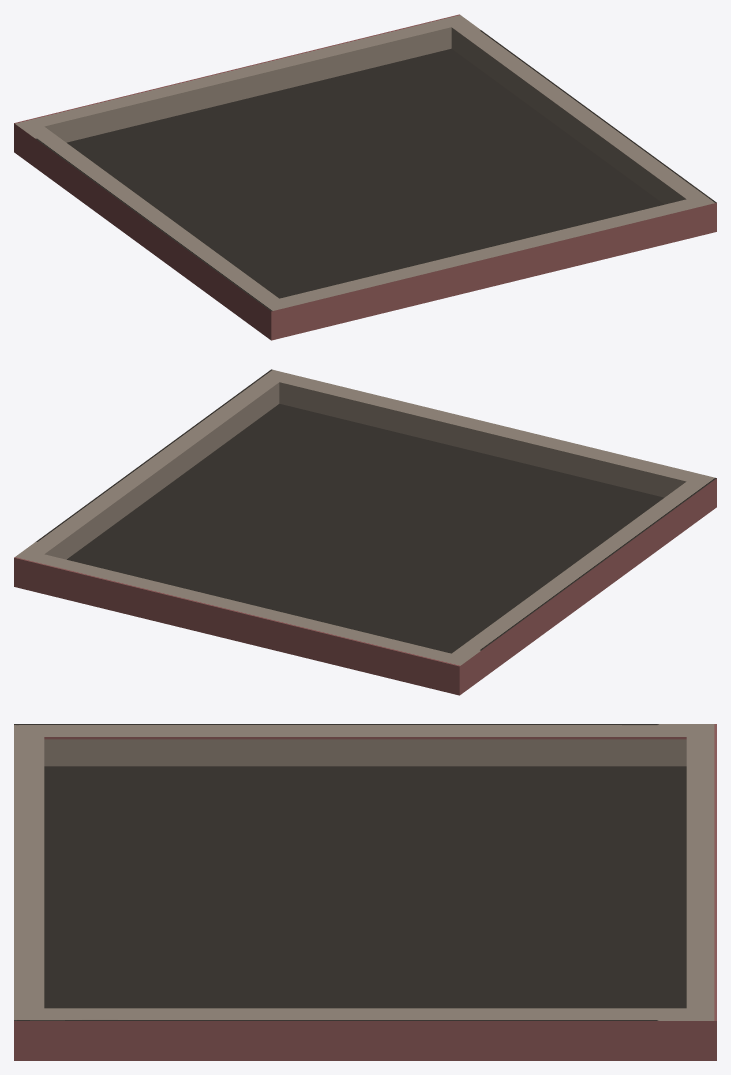
Rendered from building-02-top-01.glb.
3 views of the same model, one above another, from view 1: azimuth 30°, elevation 25°; view 2: azimuth 150°, elevation 25°; view 3: azimuth 270°, elevation 25° (orthographic). The views are drawn at different scales.
Visible parts, largest first — view 1: building-02-top-01; view 2: building-02-top-01; view 3: building-02-top-01.
Part boxes in pixels (left/top/right/bottom): building-02-top-01: left=14, top=14, right=716, bottom=340; building-02-top-01: left=14, top=369, right=716, bottom=695; building-02-top-01: left=14, top=724, right=716, bottom=1060.
Bounding box in the file's own units: 16 × 1 × 16.
Materials: 1 (1 with a texture image).
